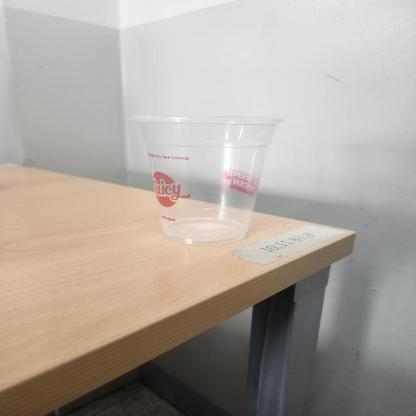Plastic Cup: (129, 114, 292, 244)
